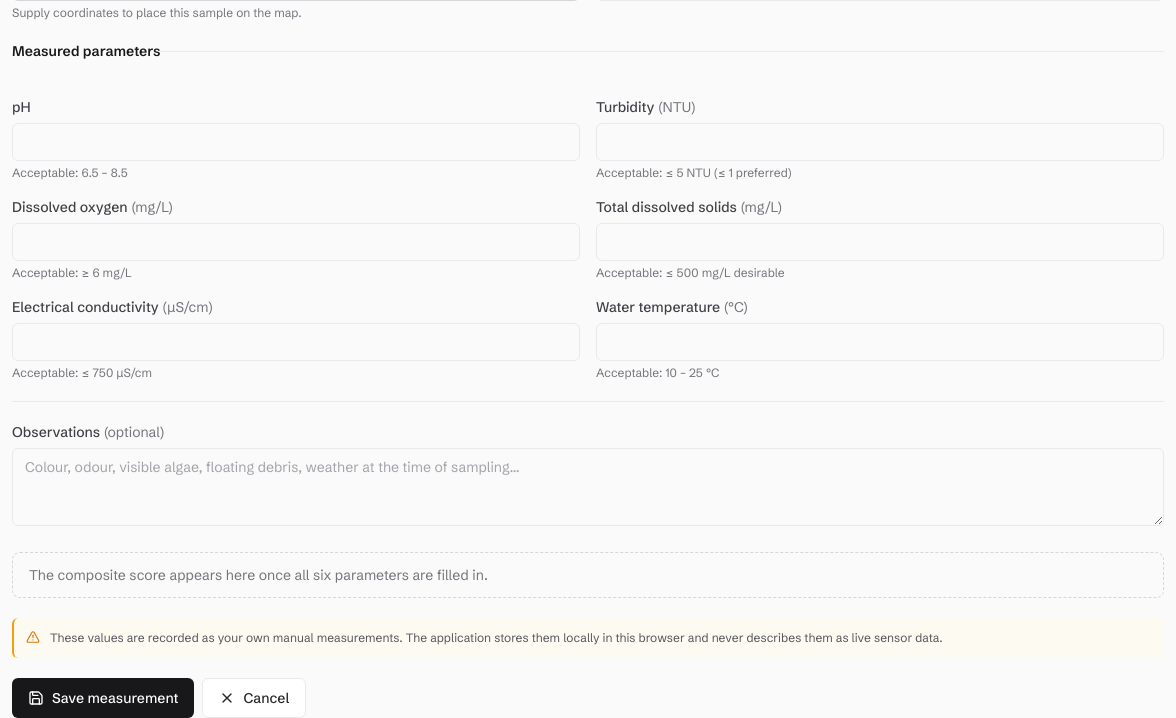
validation › clears a field error as soon as the user corrects it
The width and height of the screenshot is (1176, 718).
(page scrolled)
Click the button "Save measurement".
click(103, 698)  # box [12, 678, 194, 717]
(page scrolled)
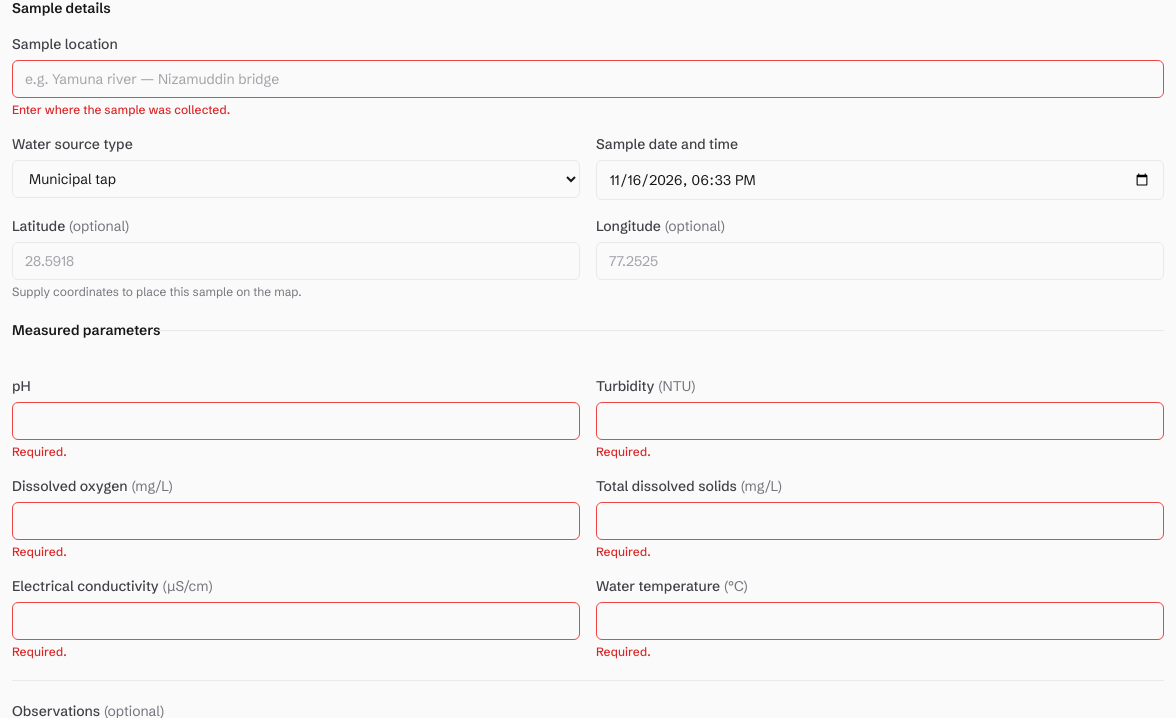
Check: the text "Enter where the sample was collected." is shown, box [12, 102, 230, 117]
Type "Now filled in" into the field labelled "Sample location".
click(588, 79); type("Now filled in")  # box [12, 60, 1164, 98]
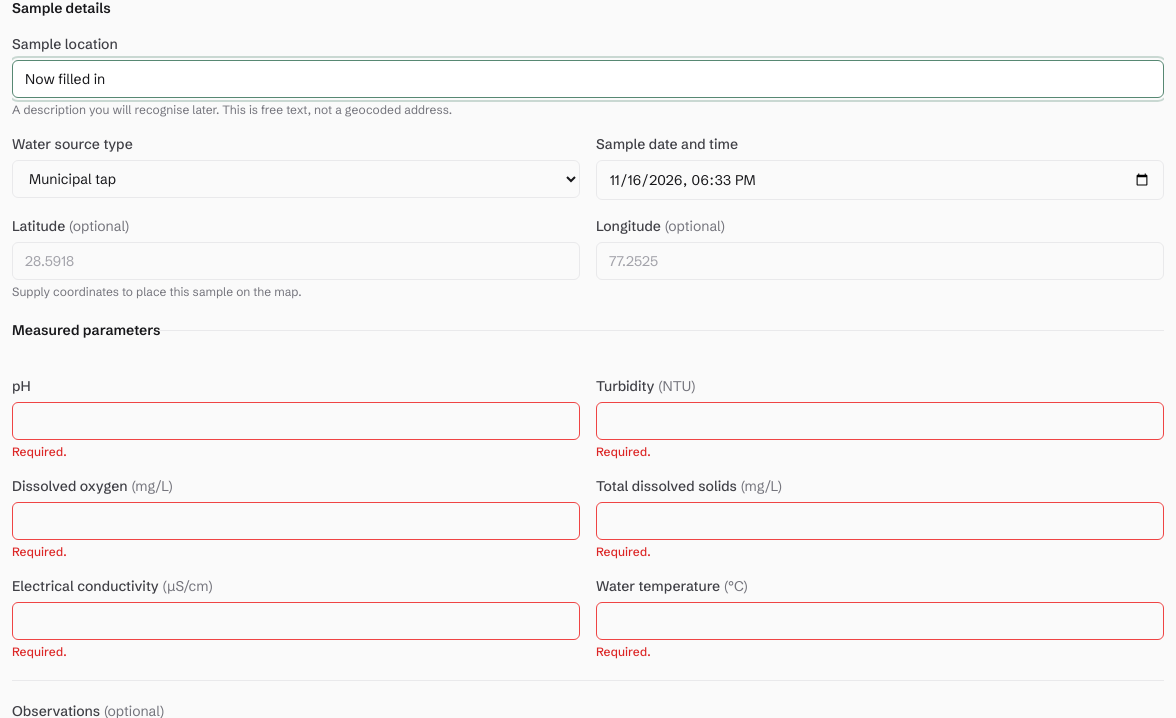
Check: the text "Enter where the sample was collected." is gone
